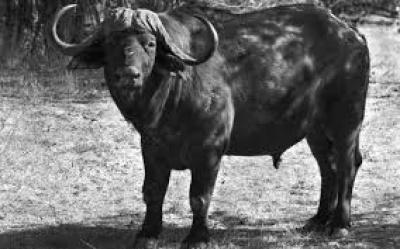buffalo: (55, 0, 371, 249)
